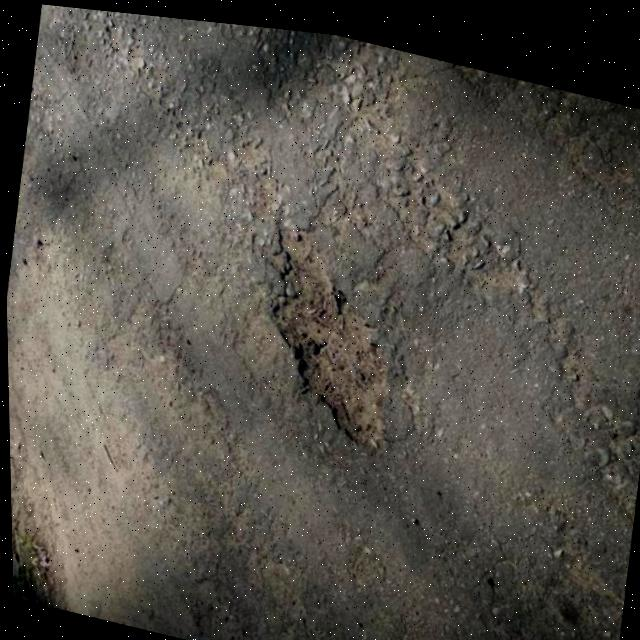Pothole: (243, 208, 409, 451)
